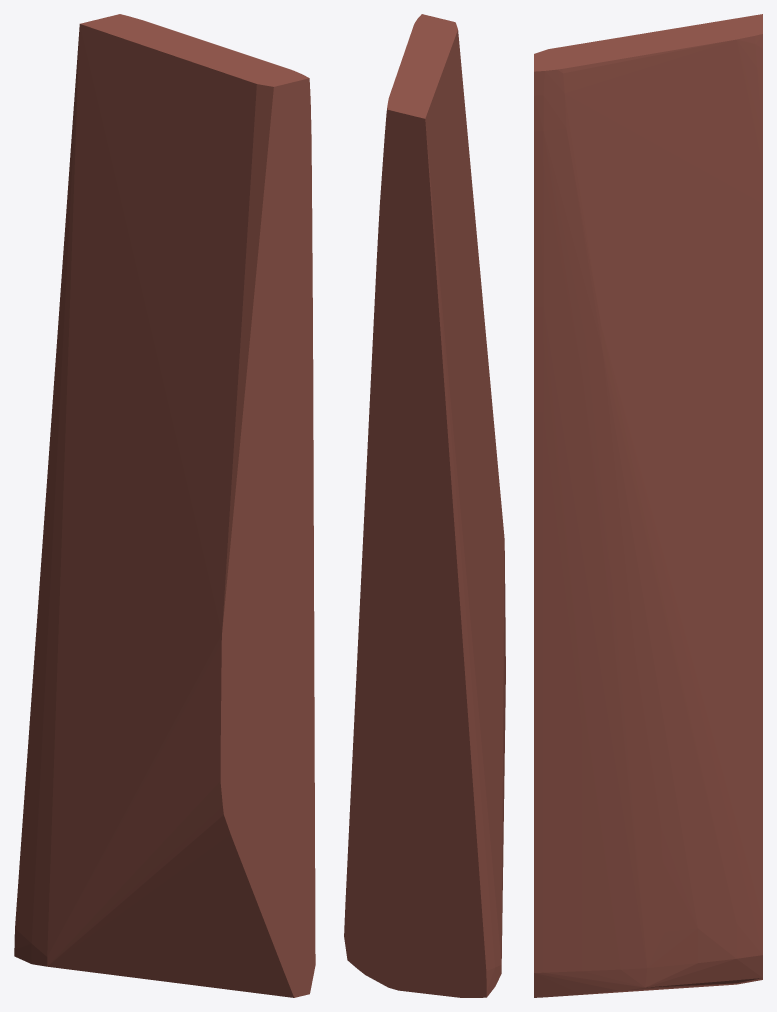
File: right-shoulder-pitch-0_part_146.obj
The picture shows the model from 3 angles, left to right: view 1: azimuth 30°, elevation 25°; view 2: azimuth 150°, elevation 25°; view 3: azimuth 270°, elevation 25°; orthographic projection. The views are drawn at different scales.
Bounding box in the file's own units: 0.0095 × 0.045 × 0.00991.
